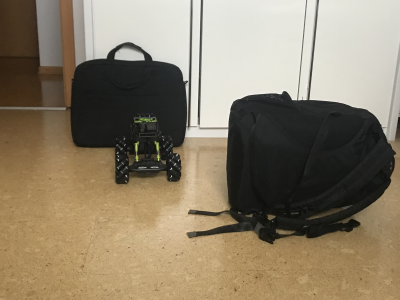remote control car: (112, 109, 183, 186)
